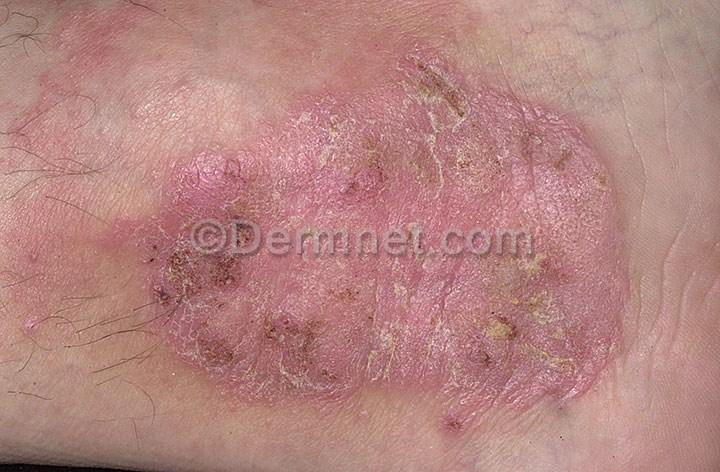Eczema: (137, 251, 619, 427), (189, 65, 608, 226), (0, 127, 100, 353), (177, 0, 494, 55), (42, 0, 174, 127), (94, 177, 199, 254)
